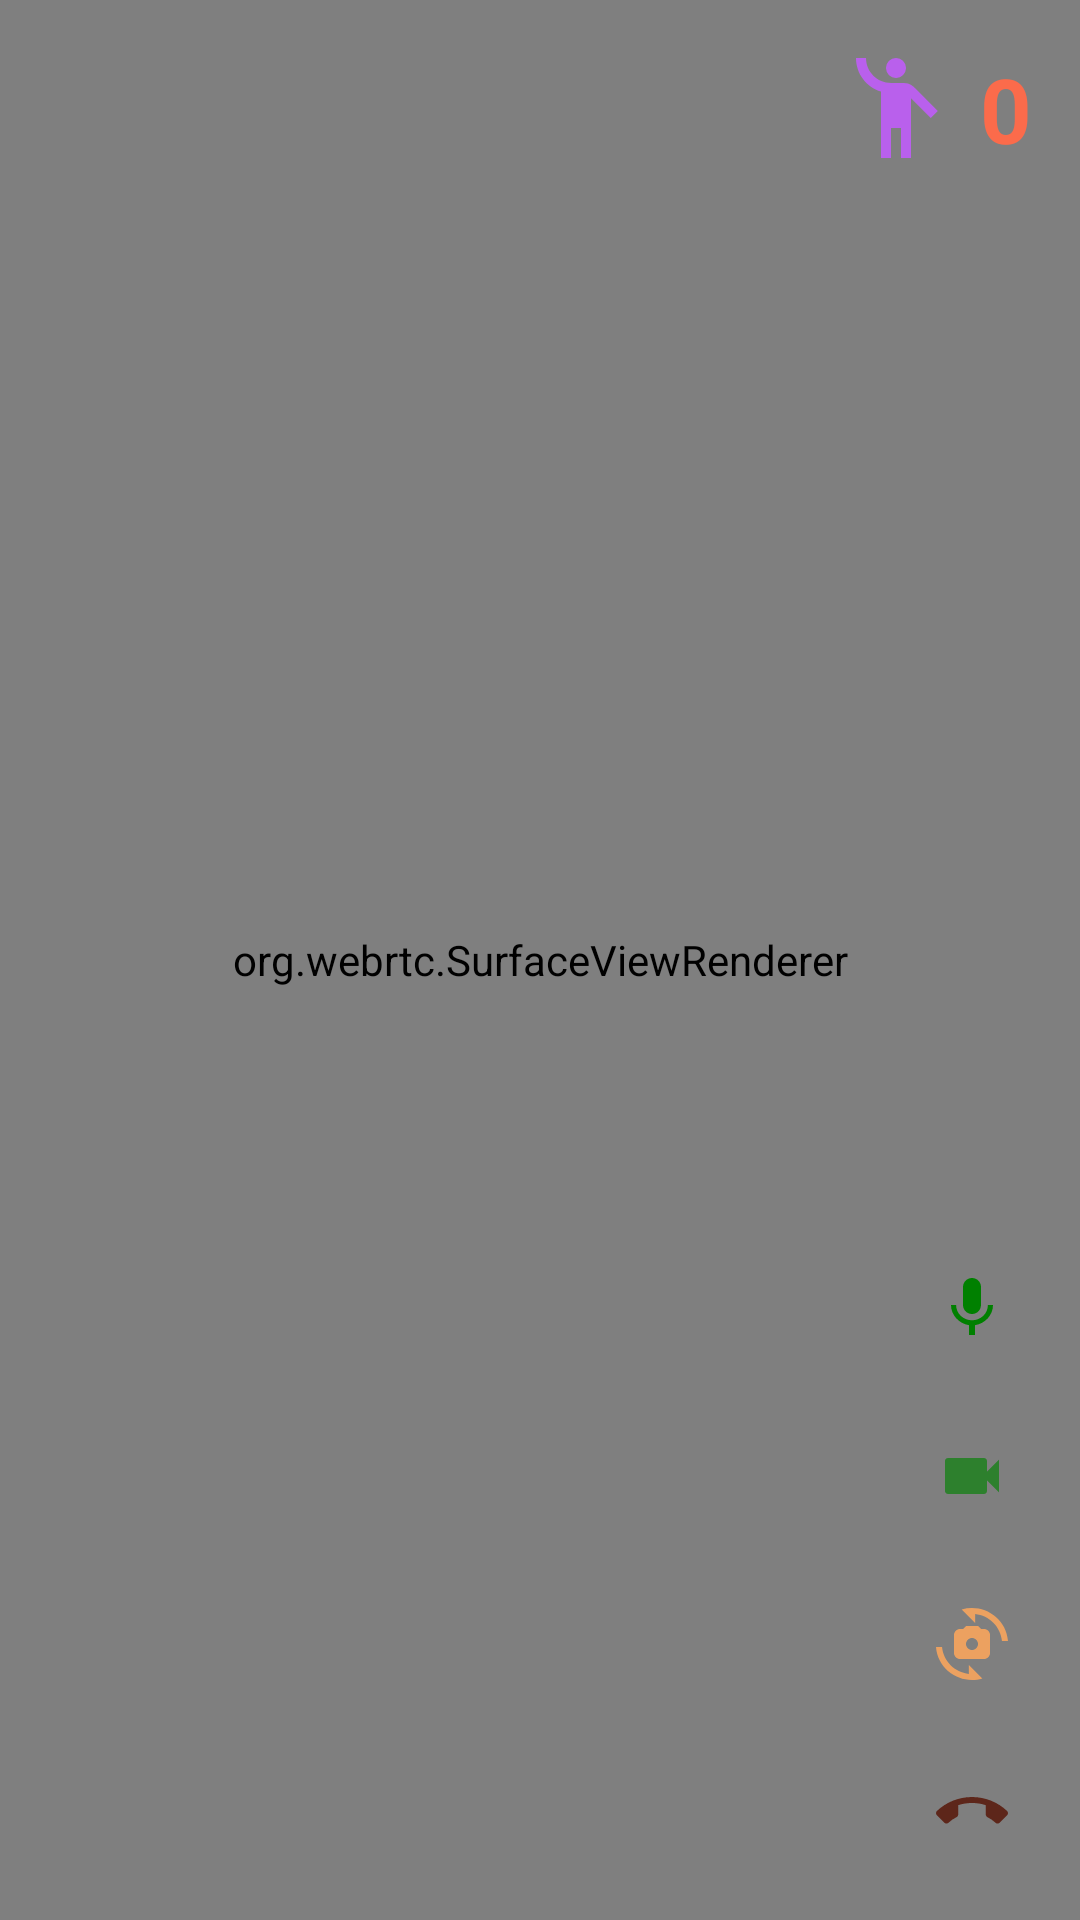

Named icons in this screenshot (1080x1920) and their centers, point (x, y):
Cam: point (972, 1476)
Leave: point (972, 1810)
Mic: point (972, 1306)
Peers: point (897, 108)
Switch Cam: point (972, 1644)
